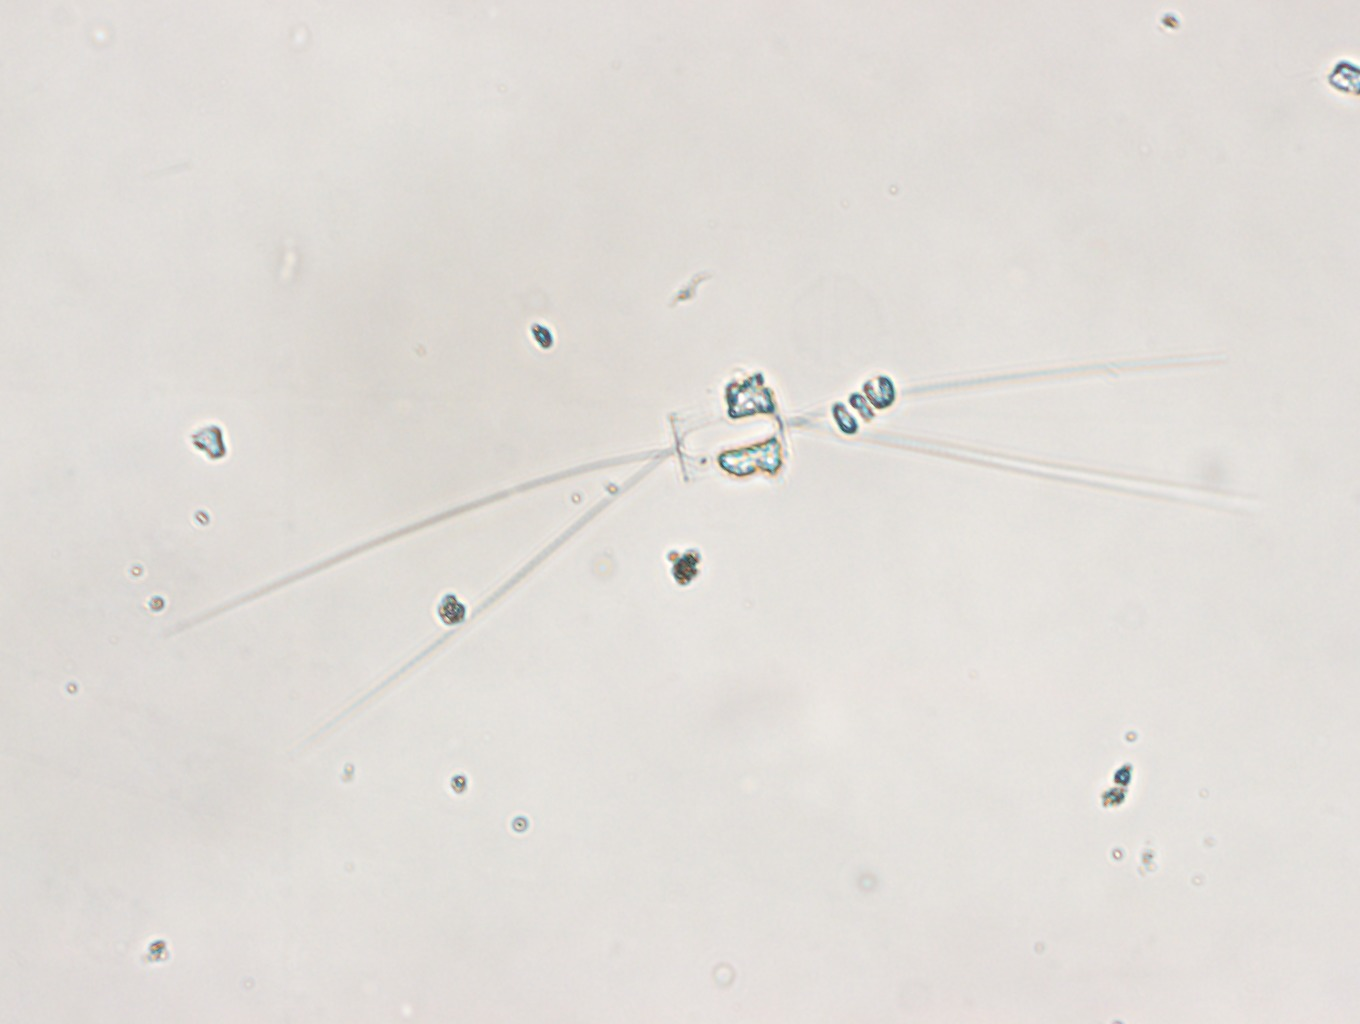chaetoceros: (178, 344, 1263, 778)
